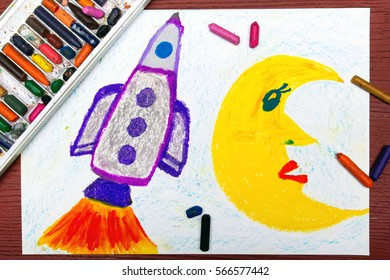moon: (210, 54, 368, 234)
roket: (68, 13, 192, 231)
